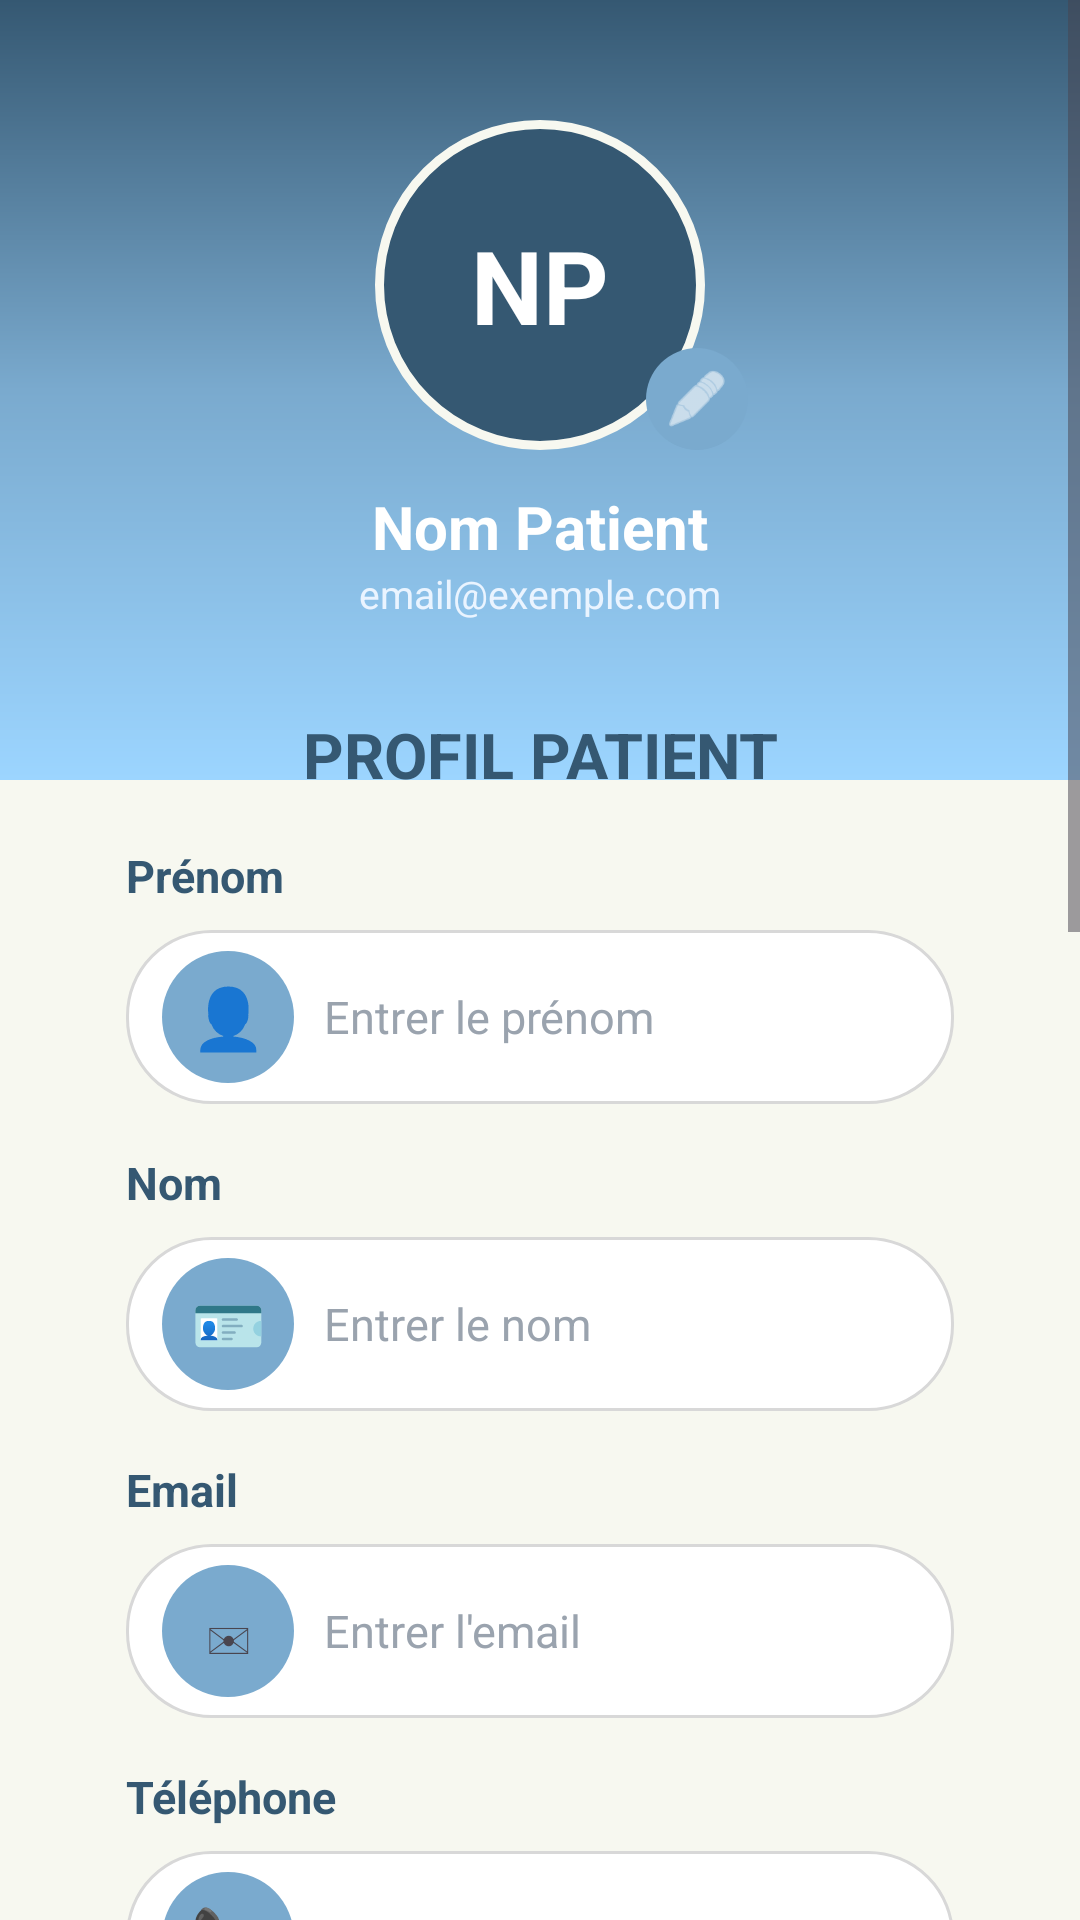

Icons on this 1080 × 1920 Android screen, each with the point to tap as (x,y):
edit: (697,399)
